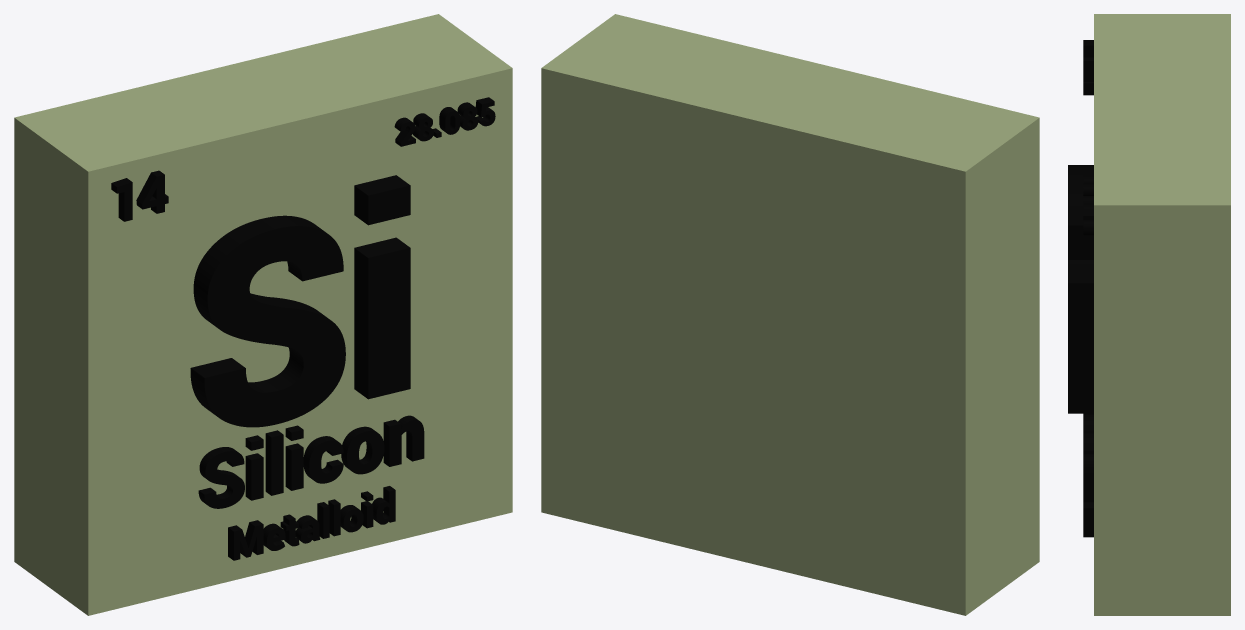
The picture shows the model from 3 angles, left to right: view 1: azimuth 30°, elevation 25°; view 2: azimuth 150°, elevation 25°; view 3: azimuth 270°, elevation 25°; orthographic projection. The views are drawn at different scales.
Parts seen in each view (by area): view 1: Cube, Text, Text.001, Text.002, Text.004, Text.003; view 2: Cube; view 3: Cube, Text, Text.001, Text.004, Text.003, Text.002.
Boxes of the visible parts, x1,y1,x2,y2 form: Cube: [14, 14, 512, 615]; Text: [190, 175, 410, 427]; Text.001: [198, 415, 424, 508]; Text.002: [228, 486, 395, 560]; Text.004: [394, 97, 495, 146]; Text.003: [111, 170, 168, 221]; Cube: [541, 14, 1039, 615]; Cube: [1094, 14, 1230, 615]; Text: [1068, 165, 1093, 413]; Text.001: [1083, 413, 1093, 498]; Text.004: [1083, 175, 1093, 235]; Text.003: [1083, 40, 1093, 95]; Text.002: [1083, 498, 1093, 537].
Bounding box in the file's own units: 178 × 178 × 63.95.
